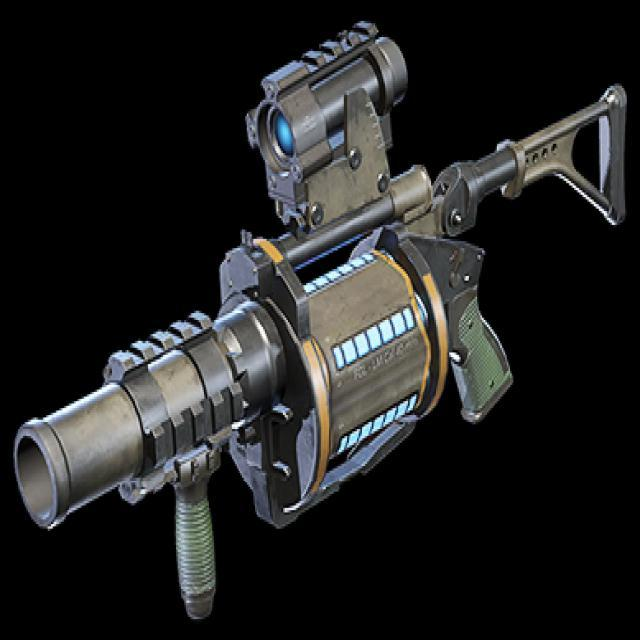rocket launcher: (14, 68, 629, 640)
scope: (237, 16, 425, 222)
